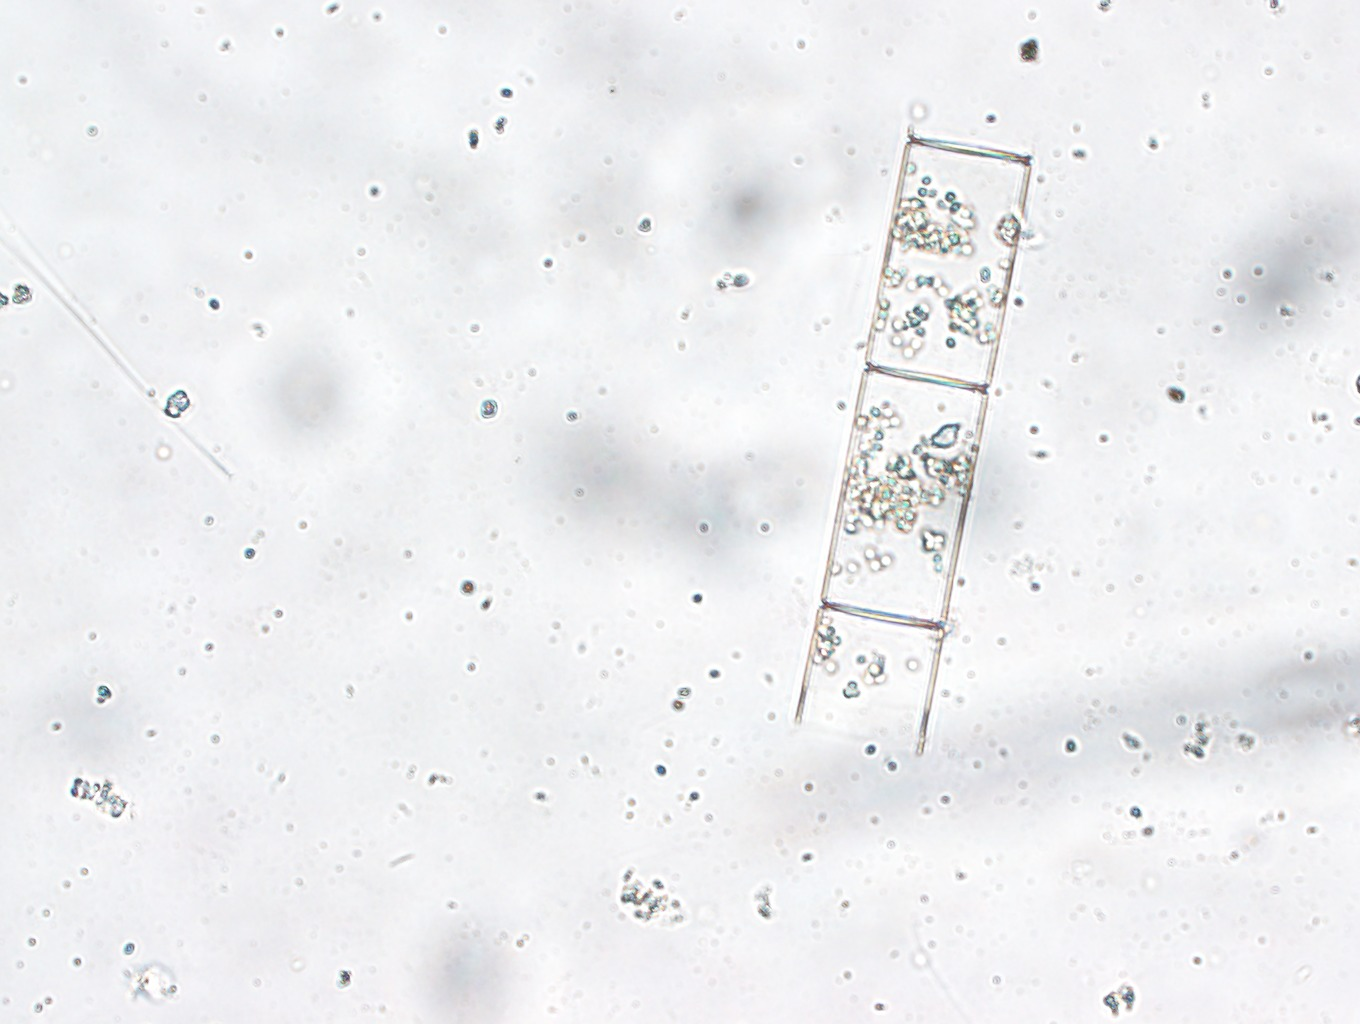guinardia flaccida: (793, 127, 1034, 758)
